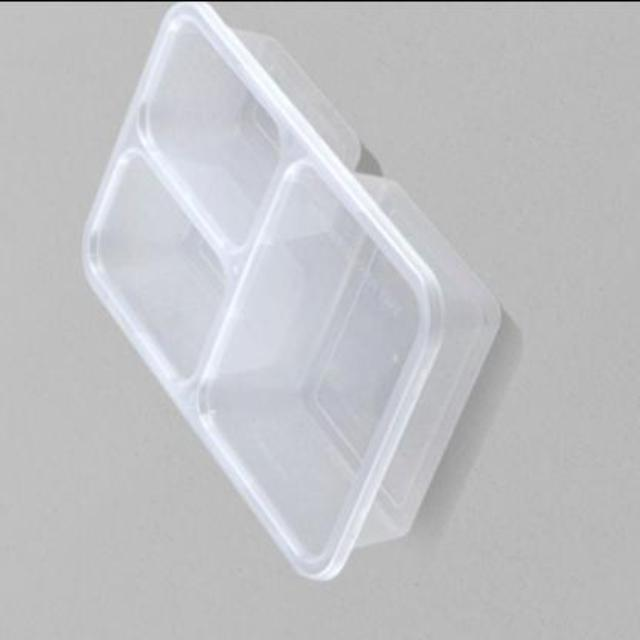plastic_box: (82, 1, 506, 576)
